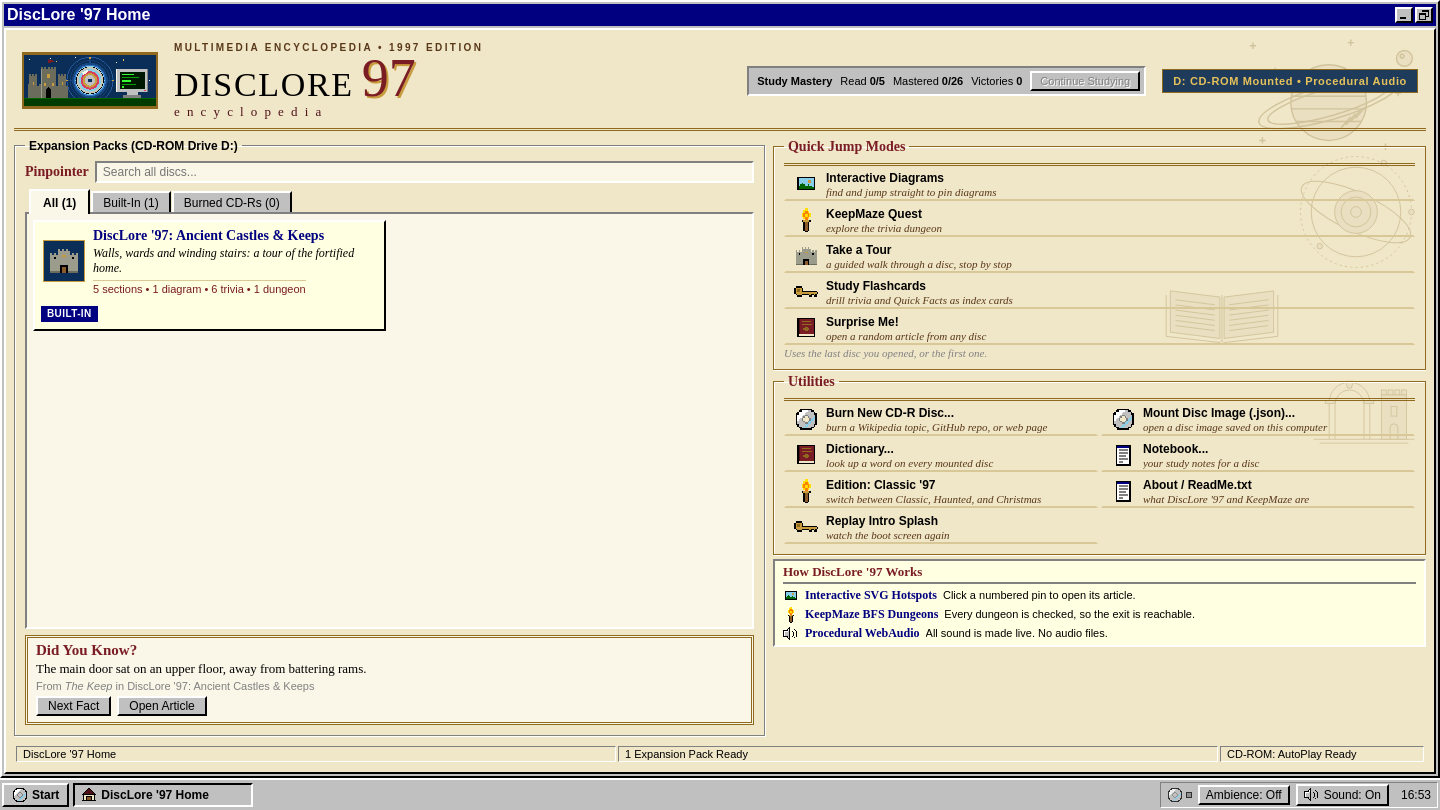
Test: Starfield screensaver › starts on a triple-click of the bare desktop and ends on any key
Later steps or results of the test are not shown.
Click the element with class "desktop__work" at [720, 389], box [0, 0, 1439, 778]
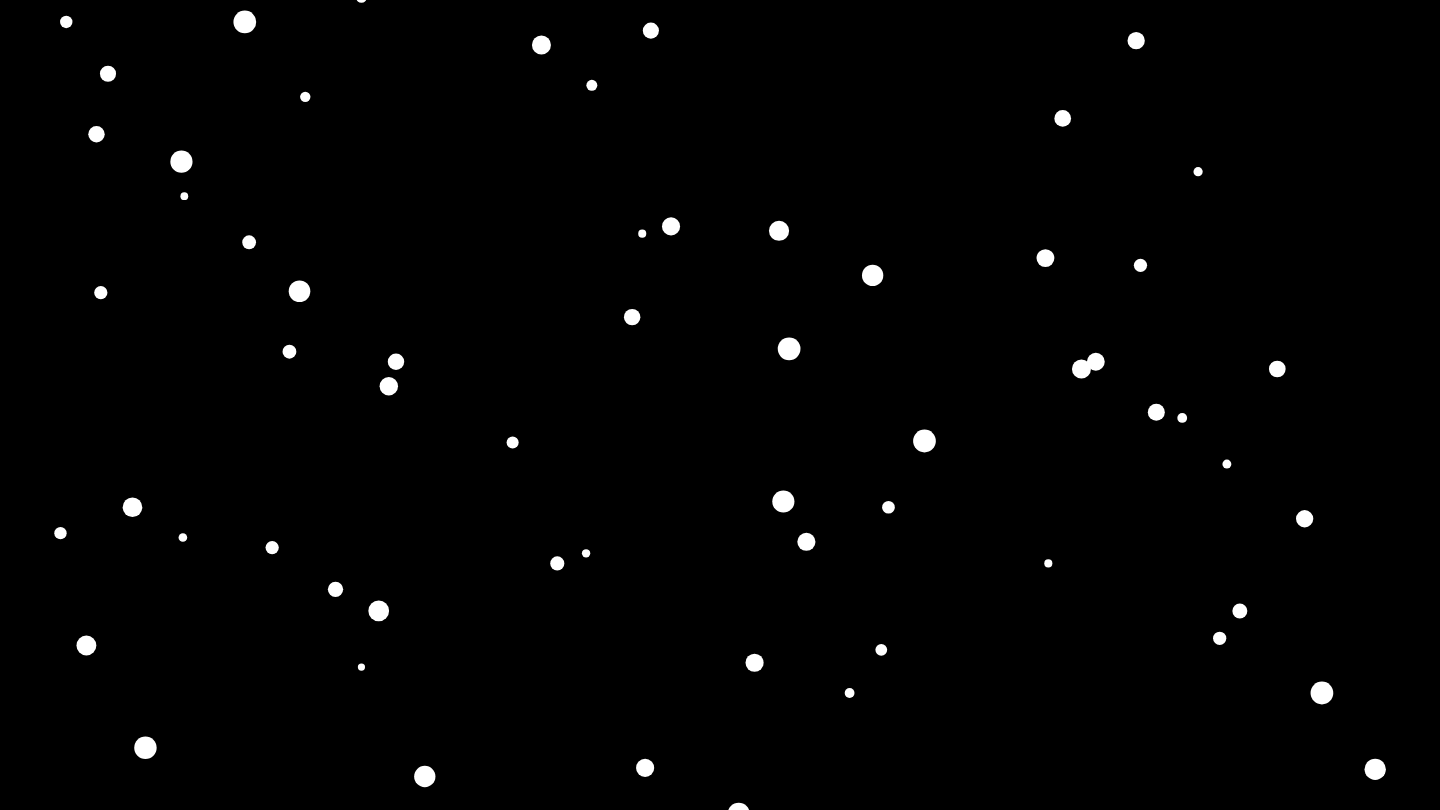
Expected: the dialog named "Starfield screensaver" is shown
